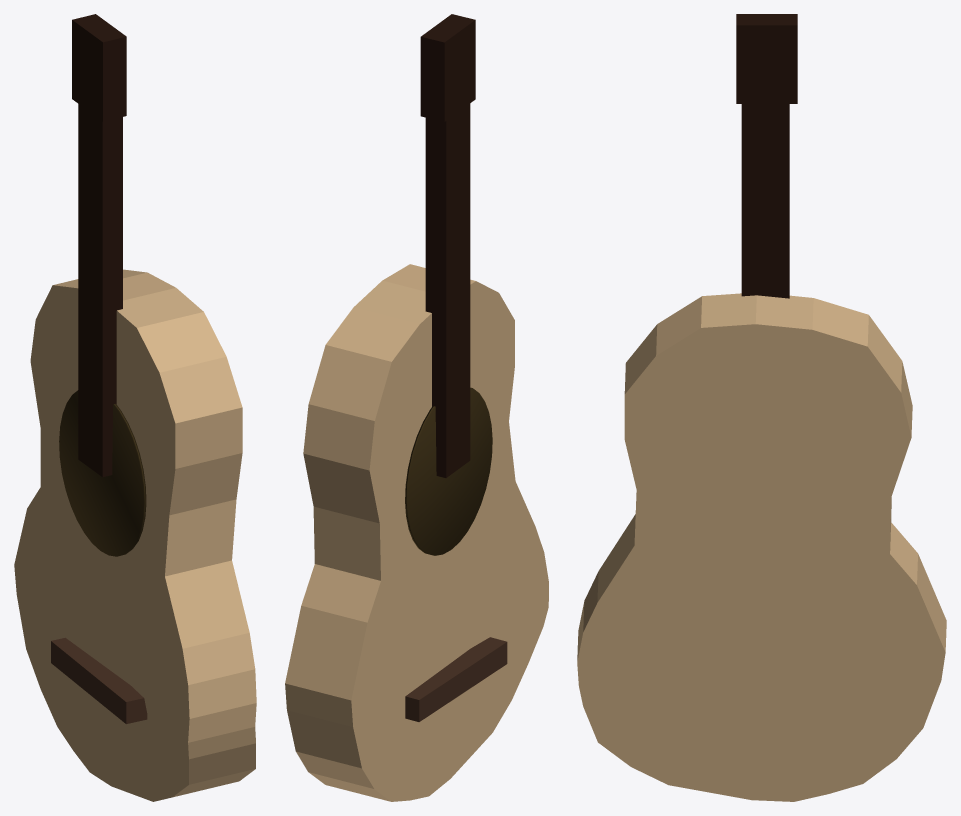
The model's file is Guitar.fbx.
3 renders of one model, left to right at view 1: azimuth 30°, elevation 25°; view 2: azimuth 150°, elevation 25°; view 3: azimuth 270°, elevation 25°, orthographic.
Visible parts, largest first — view 1: Circle.002, Cube.001, Circle.001, Cube.002, Cube; view 2: Circle.002, Cube.001, Circle.001, Cube.002, Cube; view 3: Circle.002, Cube.001, Cube.002.
Boxes of the visible parts, x1=… form: Circle.002: x1=14, y1=269, x2=256, y2=801; Cube.001: x1=78, y1=104, x2=122, y2=477; Circle.001: x1=59, y1=390, x2=146, y2=556; Cube.002: x1=72, y1=14, x2=126, y2=121; Cube: x1=51, y1=637, x2=147, y2=723; Circle.002: x1=285, y1=264, x2=548, y2=801; Cube.001: x1=425, y1=103, x2=470, y2=477; Circle.001: x1=405, y1=387, x2=492, y2=555; Cube.002: x1=420, y1=14, x2=475, y2=121; Cube: x1=405, y1=637, x2=507, y2=721; Circle.002: x1=577, y1=293, x2=946, y2=801; Cube.001: x1=741, y1=104, x2=789, y2=298; Cube.002: x1=736, y1=14, x2=797, y2=103.
Bounding box in the file's own units: 47.34 × 380 × 170.
